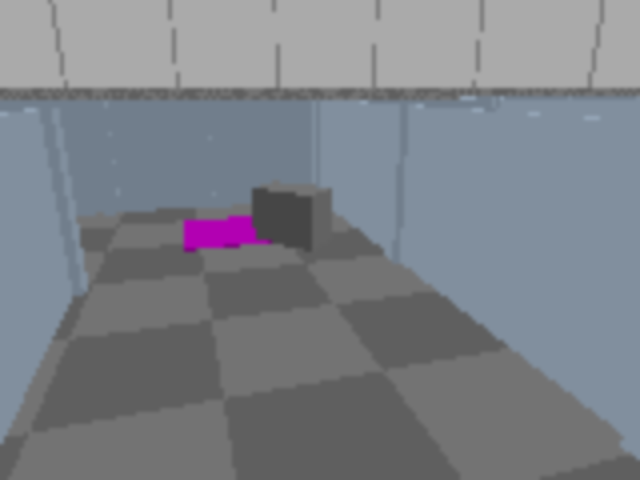goal_zone: (183, 215, 290, 251)
obstacle: (252, 181, 333, 252)
